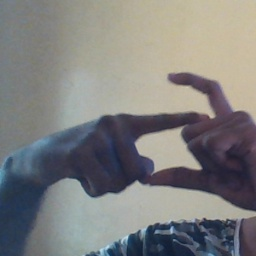E: (121, 67, 244, 192)
